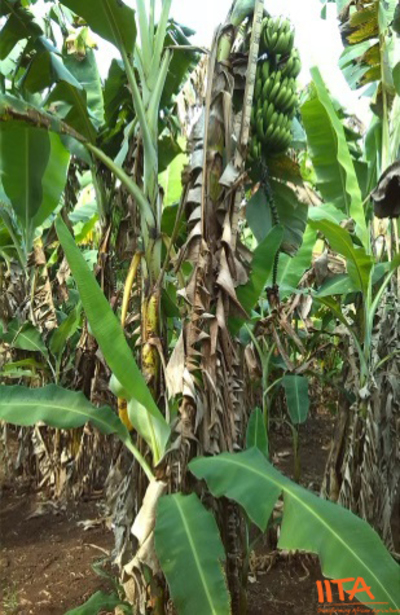bananaHand: (216, 5, 307, 166)
